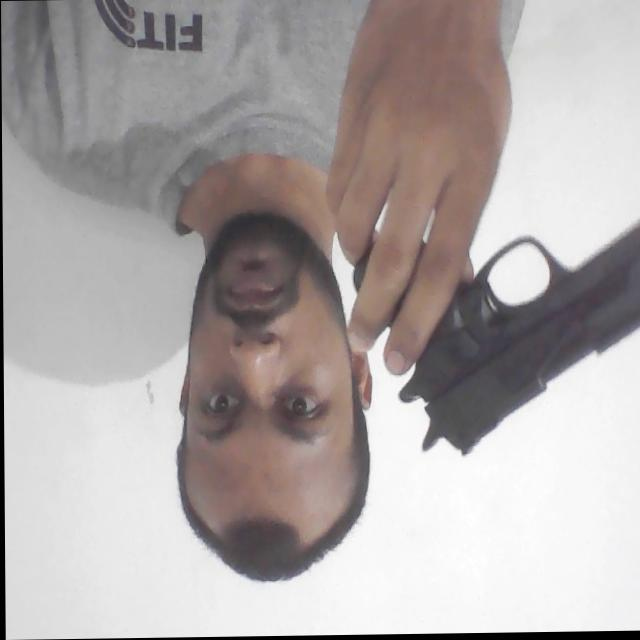handgun: (349, 218, 640, 461)
